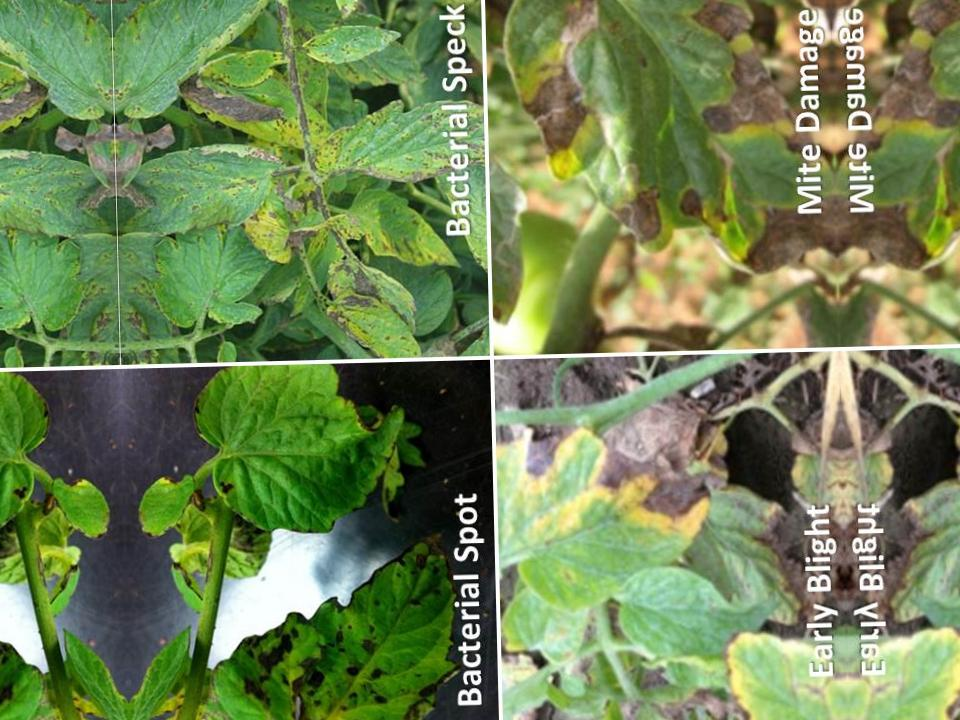Tomato Early blight leaf: (506, 405, 846, 720), (208, 538, 482, 720), (201, 363, 437, 564), (114, 0, 321, 116), (119, 131, 300, 250), (290, 91, 481, 203), (281, 4, 400, 78), (189, 42, 281, 95), (317, 0, 474, 26)
